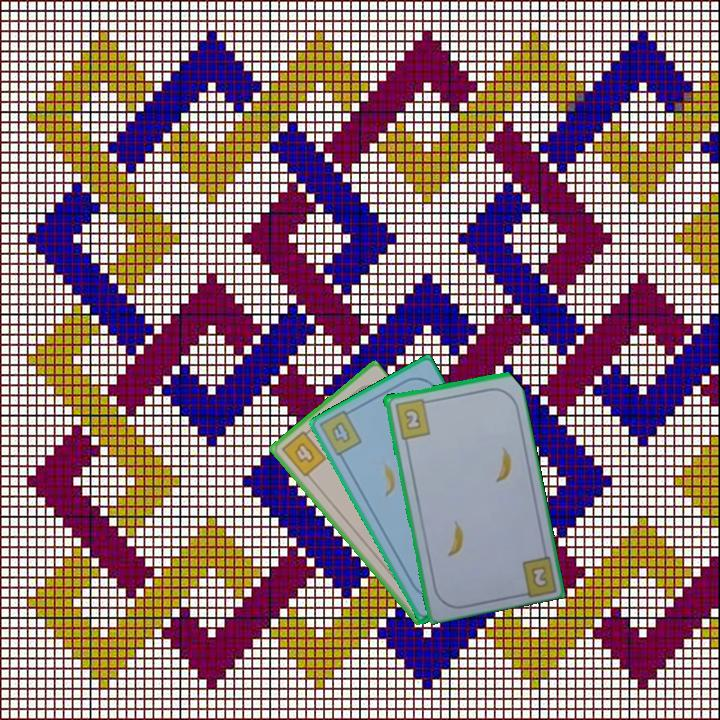2b: (391, 395, 433, 442), (527, 562, 552, 591)
4b: (278, 425, 329, 480), (318, 405, 365, 459)
